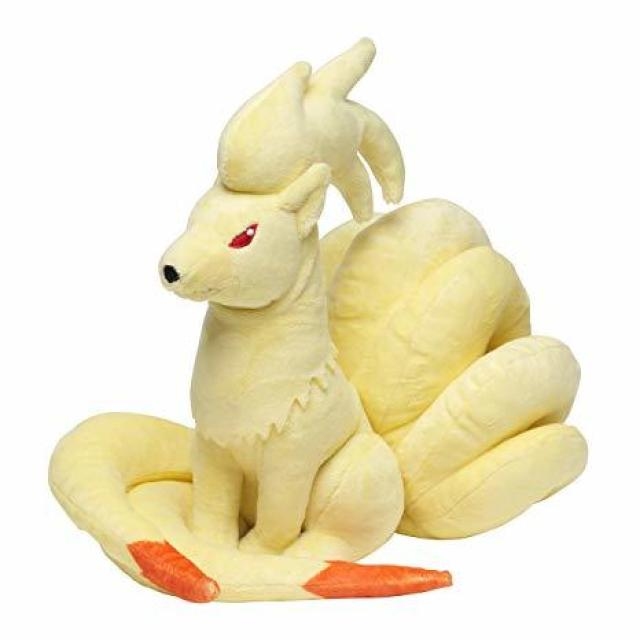Ninetales: (111, 70, 566, 602)
